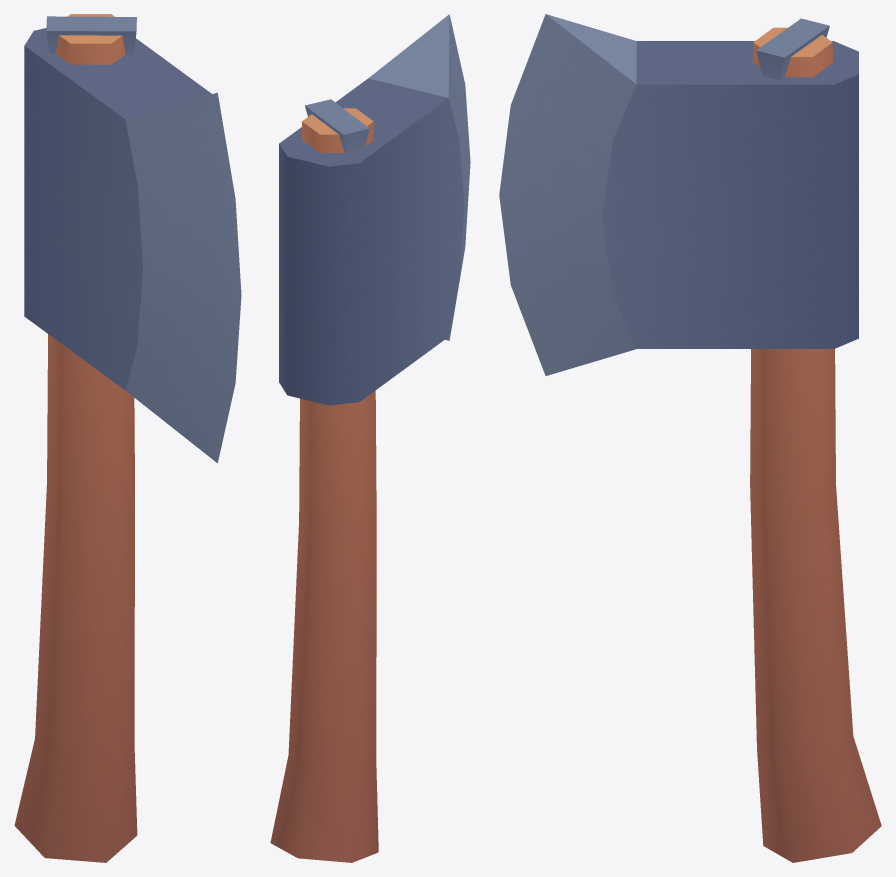
The model's file is axe.glb.
The picture shows the model from 3 angles, left to right: view 1: azimuth 30°, elevation 25°; view 2: azimuth 150°, elevation 25°; view 3: azimuth 270°, elevation 25°; orthographic projection. The views are drawn at different scales.
Parts seen in each view (by area): view 1: axe; view 2: axe; view 3: axe.
Part boxes in pixels (x1=…): axe: x1=14, y1=14, x2=241, y2=862; axe: x1=270, y1=14, x2=470, y2=862; axe: x1=499, y1=14, x2=881, y2=862.
Bounding box in the file's own units: 0.1394 × 1.23 × 0.5111.
Materials: 1 (1 with a texture image).
